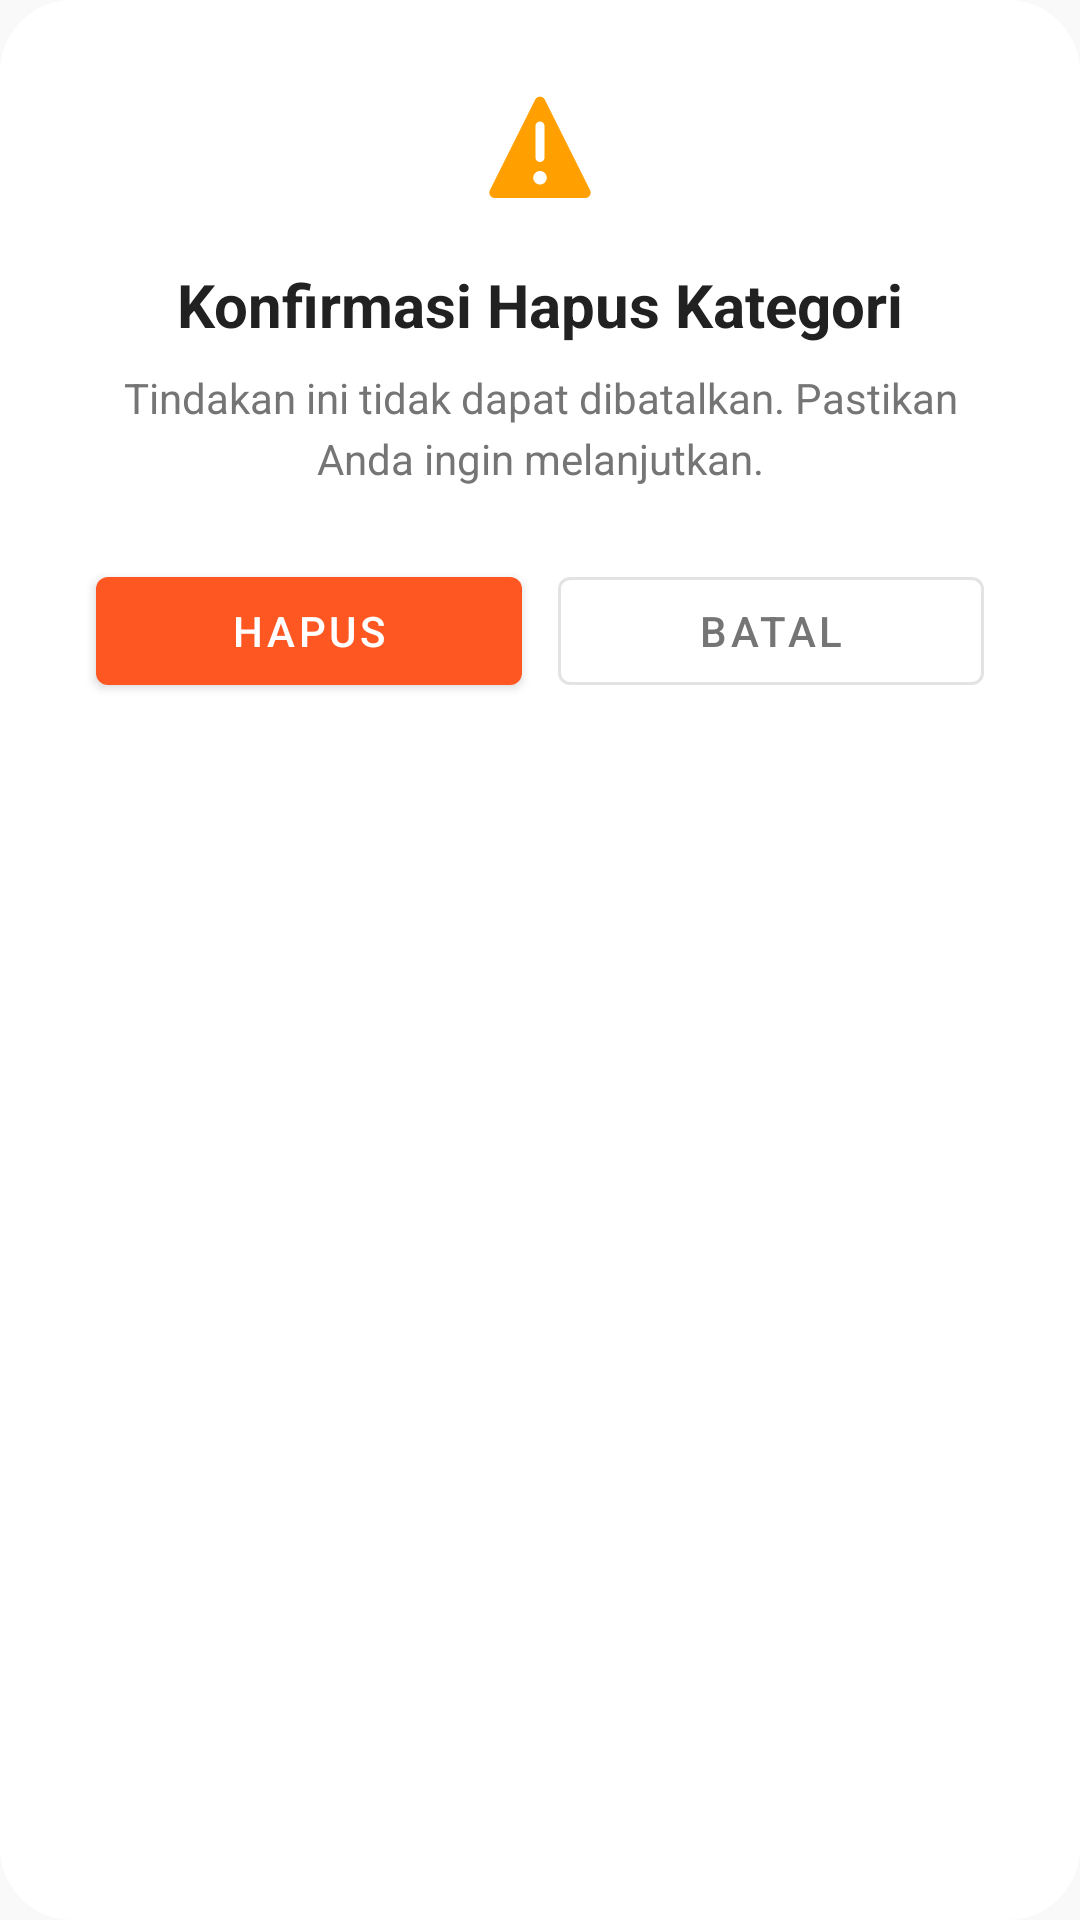

Where to tap for icons on this 1080px×1920px app screen, as (x,y):
warning: (540,147)
